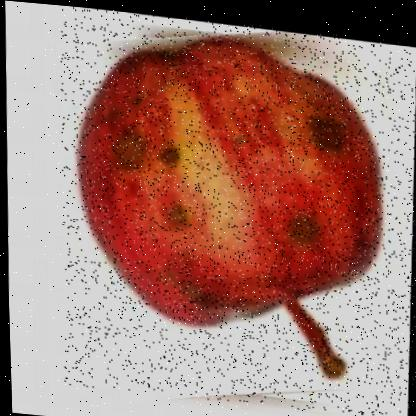apple_rotten: (51, 3, 415, 415)
